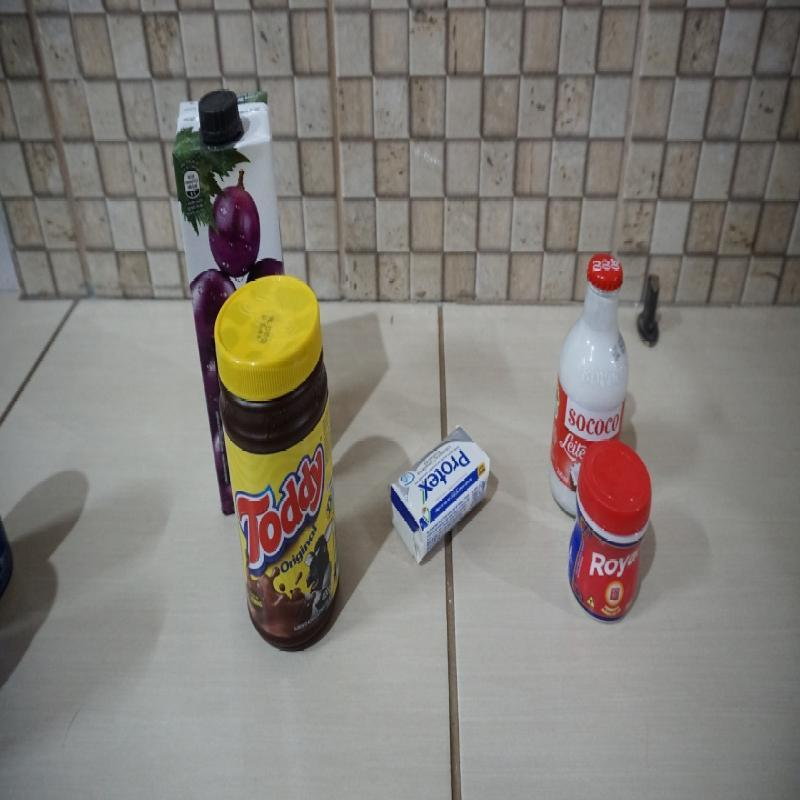Chocolate Powder: (213, 276, 343, 650)
Coconut Milk: (549, 252, 629, 522)
Soap: (388, 424, 489, 566)
Yeast: (568, 439, 655, 628)
